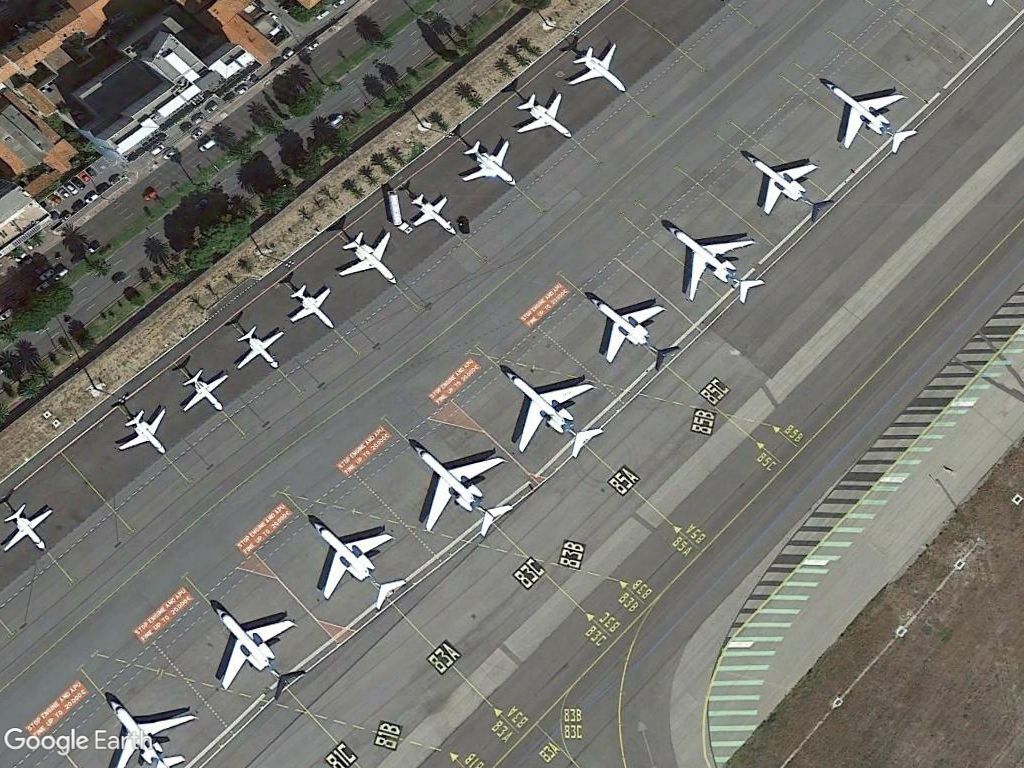chartered: (407, 437, 516, 538), (496, 362, 606, 460), (207, 597, 308, 703), (306, 514, 411, 613), (661, 218, 769, 306), (582, 289, 684, 373), (740, 145, 836, 224), (332, 233, 402, 286), (458, 137, 522, 192), (0, 499, 51, 562), (115, 405, 172, 458), (278, 285, 341, 332), (231, 324, 289, 374), (402, 188, 460, 238), (178, 366, 233, 416)
